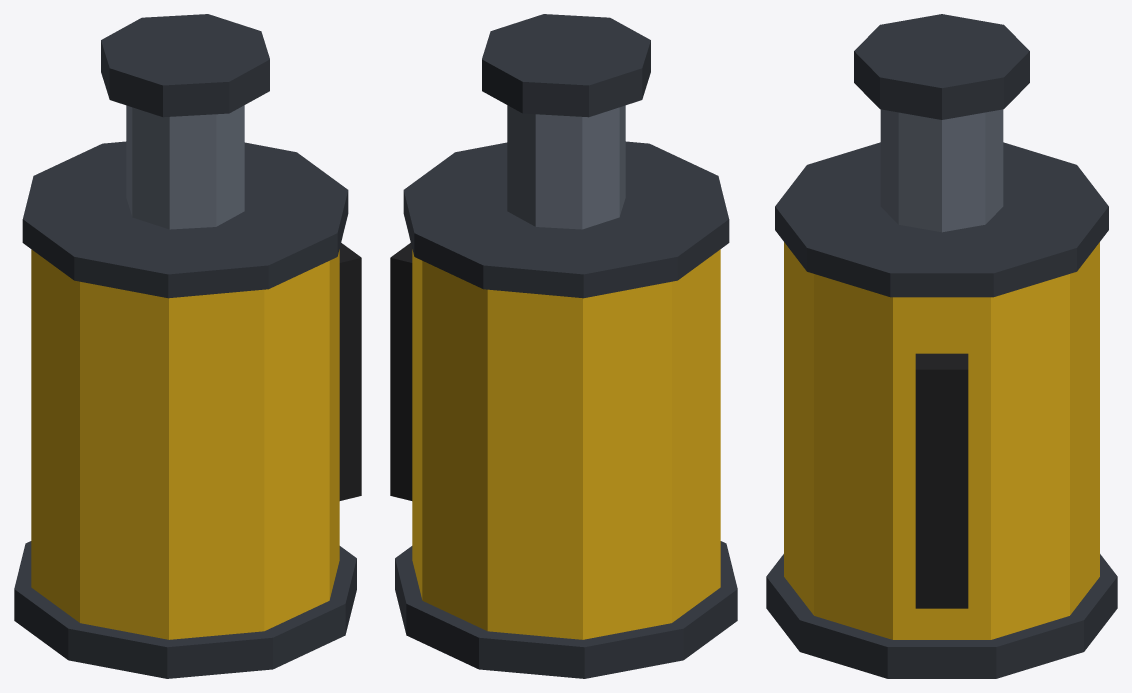
The model's file is prop_lift_part_zoology.glb.
3 views of the same model, side by side, from view 1: azimuth 30°, elevation 25°; view 2: azimuth 150°, elevation 25°; view 3: azimuth 270°, elevation 25° (orthographic).
Visible parts, largest first — view 1: prop_lift_part_zoology; view 2: prop_lift_part_zoology; view 3: prop_lift_part_zoology.
Boxes of the visible parts, <box> form: prop_lift_part_zoology: <box>14,14,361,678</box>; prop_lift_part_zoology: <box>390,14,737,678</box>; prop_lift_part_zoology: <box>766,14,1117,678</box>.
Bounding box in the file's own units: 0.4052 × 0.7 × 0.4.
Materials: 1 (1 with a texture image).
